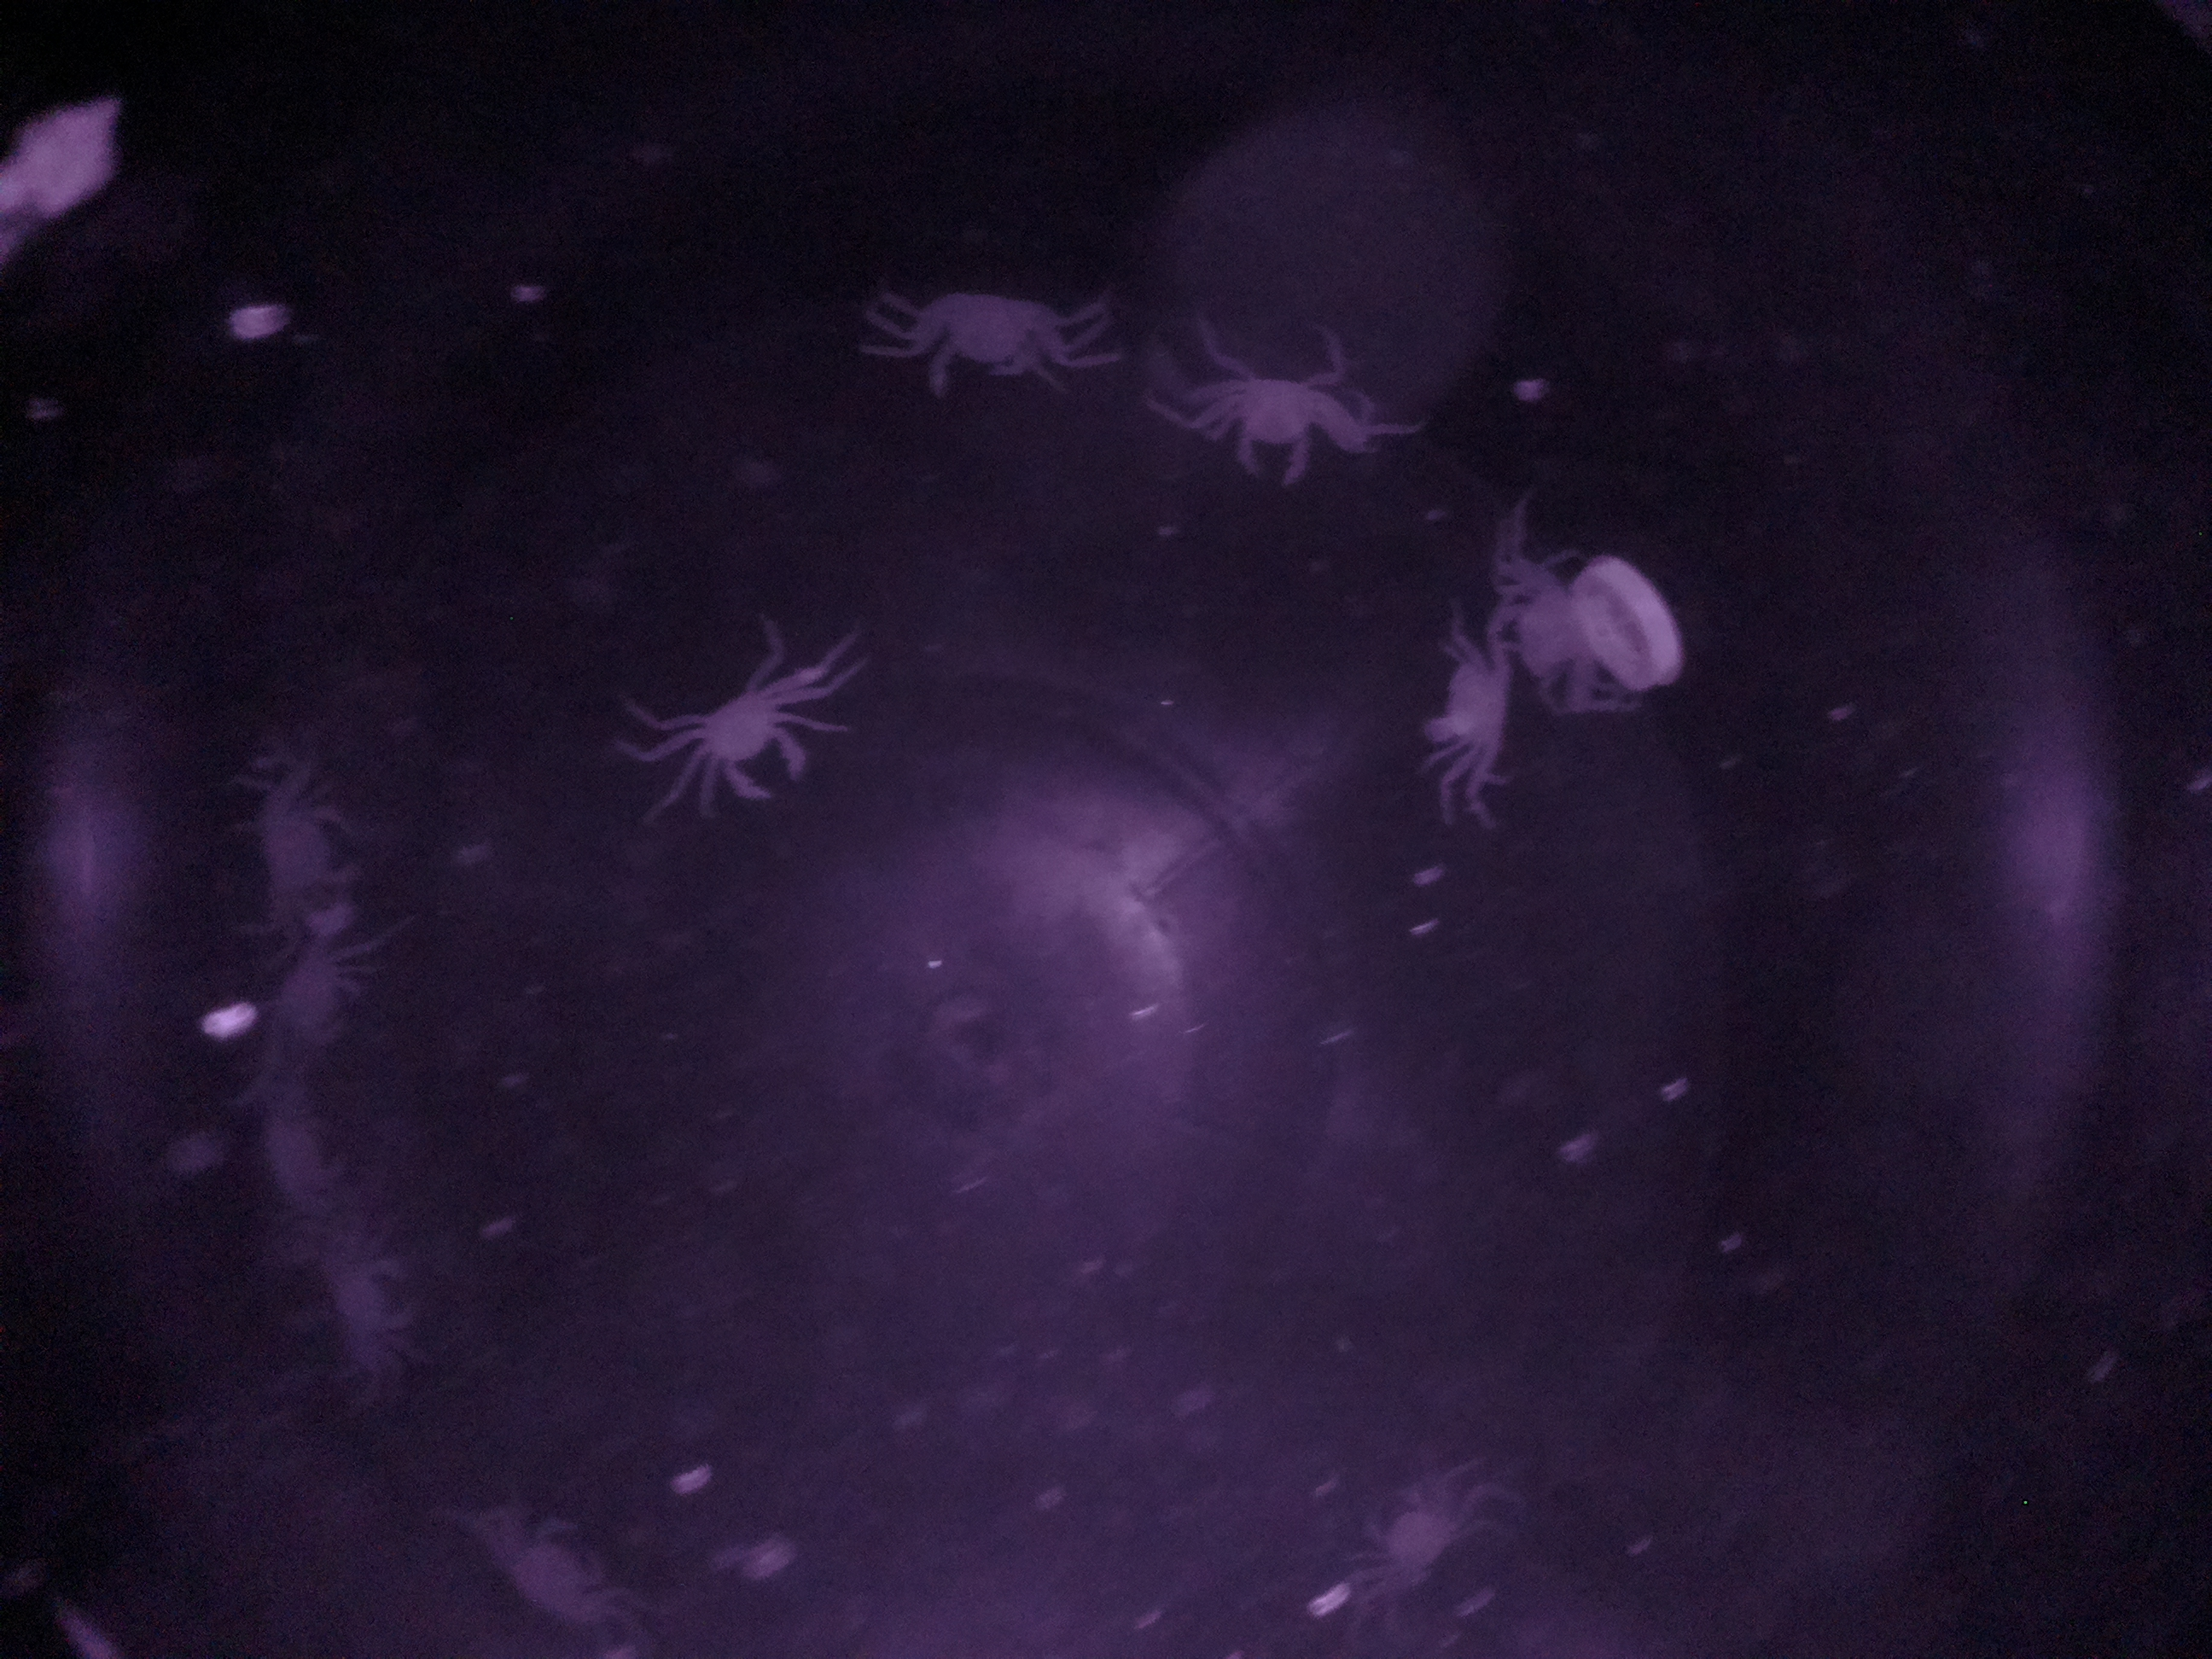Crab: (1169, 338, 1376, 497), (662, 645, 827, 823), (892, 261, 1076, 416), (1407, 615, 1538, 786)
